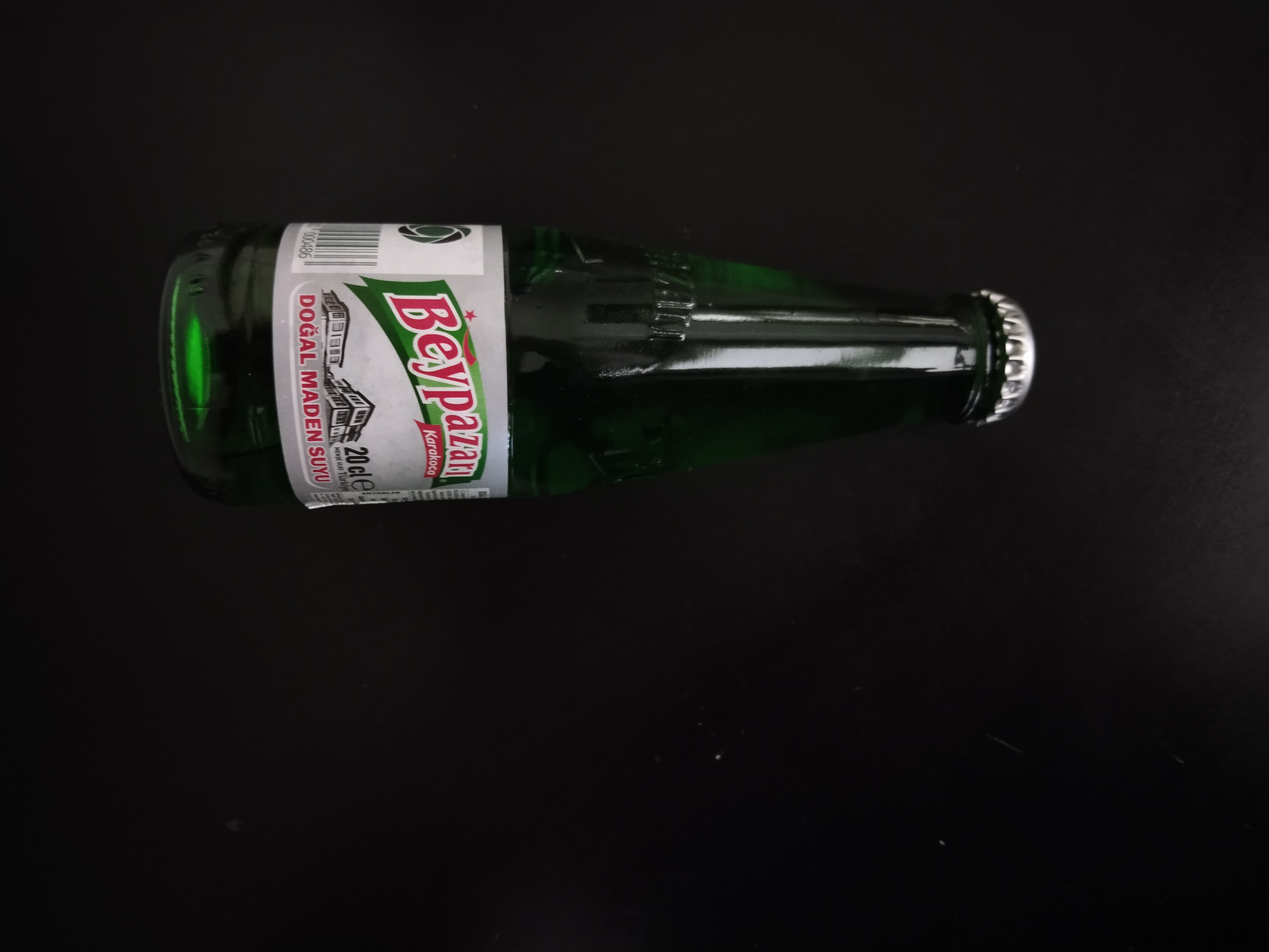beypazari_maden_suyu: (159, 223, 1030, 508)
